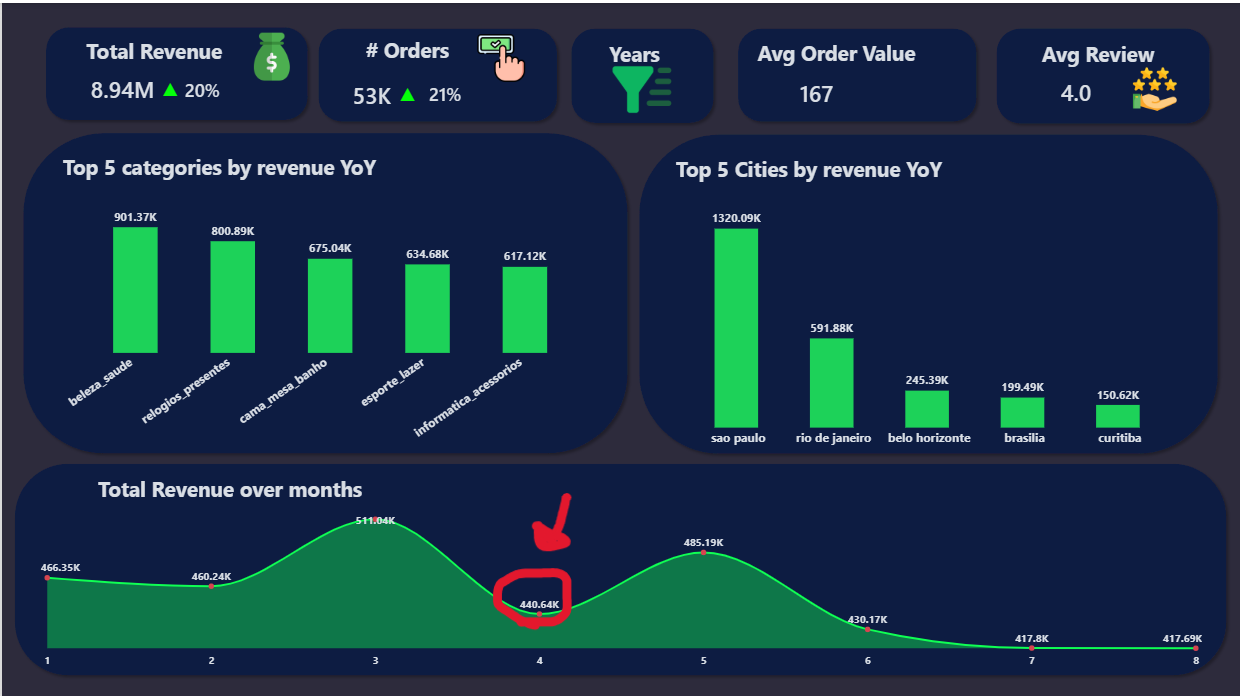

The page's visual inventory and layout, read from the dashboard file:
{"tool":"powerbi","page":{"name":"home page","canvas":[1920,1080],"ordinal":0},"visuals":[{"type":"shape","box":[59.3,28.4,423.8,162.1],"z":0,"group":"g2"},{"type":"group","id":"g1","title":"Orders Card","box":[482.3,30.9,389.2,166.6],"z":0},{"type":"shape","box":[482.3,30.9,387.6,162.1],"z":0,"group":"g1"},{"type":"shape","box":[873.5,31.7,238.3,164.2],"z":0,"group":"g5"},{"type":"shape","box":[1131.4,31.7,387.6,162.1],"z":0,"group":"g3"},{"type":"shape","box":[1532,31.7,348.5,165.2],"z":0,"group":"g4"},{"type":"shape","box":[24.9,192.3,954.9,514.5],"z":0,"group":"g6"},{"type":"shape","box":[979.8,194.6,915.2,512.9],"z":0,"group":"g7"},{"type":"shape","box":[11.3,706,1896.3,346.2],"z":0,"group":"g8"},{"type":"group","id":"g2","title":"Revenue Card","box":[59.3,28.4,424.2,163.4],"z":1000},{"type":"textbox","box":[80.8,52.5,310.2,52.6],"z":1000,"group":"g2"},{"type":"textbox","box":[1151.1,55.8,283.7,52.6],"z":1000,"group":"g3"},{"type":"textbox","box":[892.8,57.3,174.2,124.5],"z":1000,"group":"g5"},{"type":"textbox","box":[1585.3,58.6,227.5,52.7],"z":1000,"group":"g4"},{"type":"cardVisual","fields":{"Data":["Measures_table.total_orders"]},"box":[486.2,96.2,175.3,92.1],"z":1000,"group":"g1"},{"type":"textbox","box":[94.5,232.1,784.1,70.4],"z":1000,"group":"g6"},{"type":"textbox","box":[1046.5,234.3,751.6,70.2],"z":1000,"group":"g7"},{"type":"textbox","box":[149.5,732.8,1557.2,47.4],"z":1000,"group":"g8"},{"type":"group","id":"g3","title":"Avg order Value Card","box":[1131.4,31.7,384.7,160.7],"z":2000},{"type":"textbox","box":[483.5,49.8,288.9,59.3],"z":2000,"group":"g1"},{"type":"image","box":[886.5,84.4,208.2,101.8],"z":2000,"group":"g5"},{"type":"cardVisual","fields":{"Data":["Measures_table.Total Revenue"]},"box":[73.2,85.3,230.3,94.2],"z":2000,"group":"g2"},{"type":"cardVisual","fields":{"Data":["Measures_table.Avg Review"]},"box":[1579.7,91.4,168.9,94.4],"z":2000,"group":"g4"},{"type":"cardVisual","fields":{"Data":["Measures_table.Avg Order Value"]},"box":[1143.1,98.1,240.9,85.4],"z":2000,"group":"g3"},{"type":"clusteredColumnChart","title":"Current Revenue vs Previous Year by Revenue","fields":{"Category":["gold dim_products.product_category_name"],"Y":["Measures_table.Total Revenue"]},"box":[77.8,293,851.2,413.9],"z":2000,"group":"g6"},{"type":"clusteredColumnChart","title":"Current Revenue vs Previous Year by Revenue","fields":{"Category":["gold dim_customers.customer_city"],"Y":["Measures_table.Total Revenue"]},"box":[1030.5,295,815.9,412.6],"z":2000,"group":"g7"},{"type":"lineChart","title":"Current Revenue vs Previous Year by Revenue","fields":{"Category":["gold dim_date.month"],"Y":["Measures_table.Total Revenue"]},"box":[44.5,773.9,1832.9,278.3],"z":2000,"group":"g8"},{"type":"group","id":"g4","title":"Avg reveiw Card","box":[1532,31.7,348.5,165.2],"z":3000},{"type":"cardVisual","title":"arrow","fields":{"Data":["Measures_table.Revenue YoY Arrow"]},"box":[219.4,92,84.9,80.2],"z":3000,"group":"g2"},{"type":"cardVisual","title":"arrow","fields":{"Data":["Measures_table.orders YoY Arrow"]},"box":[588.3,101.6,84.9,80.2],"z":3000,"group":"g1"},{"type":"group","id":"g5","title":"slicer","box":[873.5,31.7,238.3,164.2],"z":4000},{"type":"cardVisual","title":"%","fields":{"Data":["Measures_table.Revenue YoY %"]},"box":[266.7,75.8,216.8,116.1],"z":4000,"group":"g2"},{"type":"cardVisual","title":"%","fields":{"Data":["Measures_table.Orders YoY %"]},"box":[645.9,83.6,225.6,113.9],"z":4000,"group":"g1"},{"type":"group","id":"g6","title":"5 cat MoM","box":[24.9,192.3,954.9,513.7],"z":5000},{"type":"group","id":"g7","title":"5 City MoM","box":[979.8,194.6,916.5,513.7],"z":6000},{"type":"group","id":"g8","title":"revenue over months","box":[11.3,706,1896.3,346.2],"z":7000},{"type":"image","box":[359.2,46,118.3,74.5],"z":8000},{"type":"image","box":[1676.8,97.3,219.5,74.7],"z":9000},{"type":"image","box":[694.2,39.4,155.5,74.5],"z":10000}]}

Visuals, with their boxes in screenshot pixels (x1, y1, x2, y2), scaled from the page's 1920x1080 canvas onto the 1240x696 screenshot:
shape: (38,18,312,123)
"Orders Card" group: (311,20,563,127)
shape: (311,20,562,124)
shape: (564,20,718,126)
shape: (731,20,981,125)
shape: (989,20,1214,127)
shape: (16,124,633,455)
shape: (633,125,1224,456)
shape: (7,455,1232,678)
"Revenue Card" group: (38,18,312,124)
textbox: (52,34,253,68)
textbox: (743,36,927,70)
textbox: (577,37,689,117)
textbox: (1024,38,1171,72)
cardVisual - Measures_table.total_orders: (314,62,427,121)
textbox: (61,150,567,195)
textbox: (676,151,1161,196)
textbox: (97,472,1102,503)
"Avg order Value Card" group: (731,20,979,124)
textbox: (312,32,499,70)
image: (573,54,707,120)
cardVisual - Measures_table.Total Revenue: (47,55,196,116)
cardVisual - Measures_table.Avg Review: (1020,59,1129,120)
cardVisual - Measures_table.Avg Order Value: (738,63,894,118)
"Current Revenue vs Previous Year by Revenue" clusteredColumnChart: (50,189,600,456)
"Current Revenue vs Previous Year by Revenue" clusteredColumnChart: (666,190,1192,456)
"Current Revenue vs Previous Year by Revenue" lineChart: (29,499,1212,678)
"Avg reveiw Card" group: (989,20,1214,127)
"arrow" cardVisual: (142,59,197,111)
"arrow" cardVisual: (380,65,435,117)
"slicer" group: (564,20,718,126)
"%" cardVisual: (172,49,312,124)
"%" cardVisual: (417,54,563,127)
"5 cat MoM" group: (16,124,633,455)
"5 City MoM" group: (633,125,1225,456)
"revenue over months" group: (7,455,1232,678)
image: (232,30,308,78)
image: (1083,63,1225,111)
image: (448,25,549,73)
